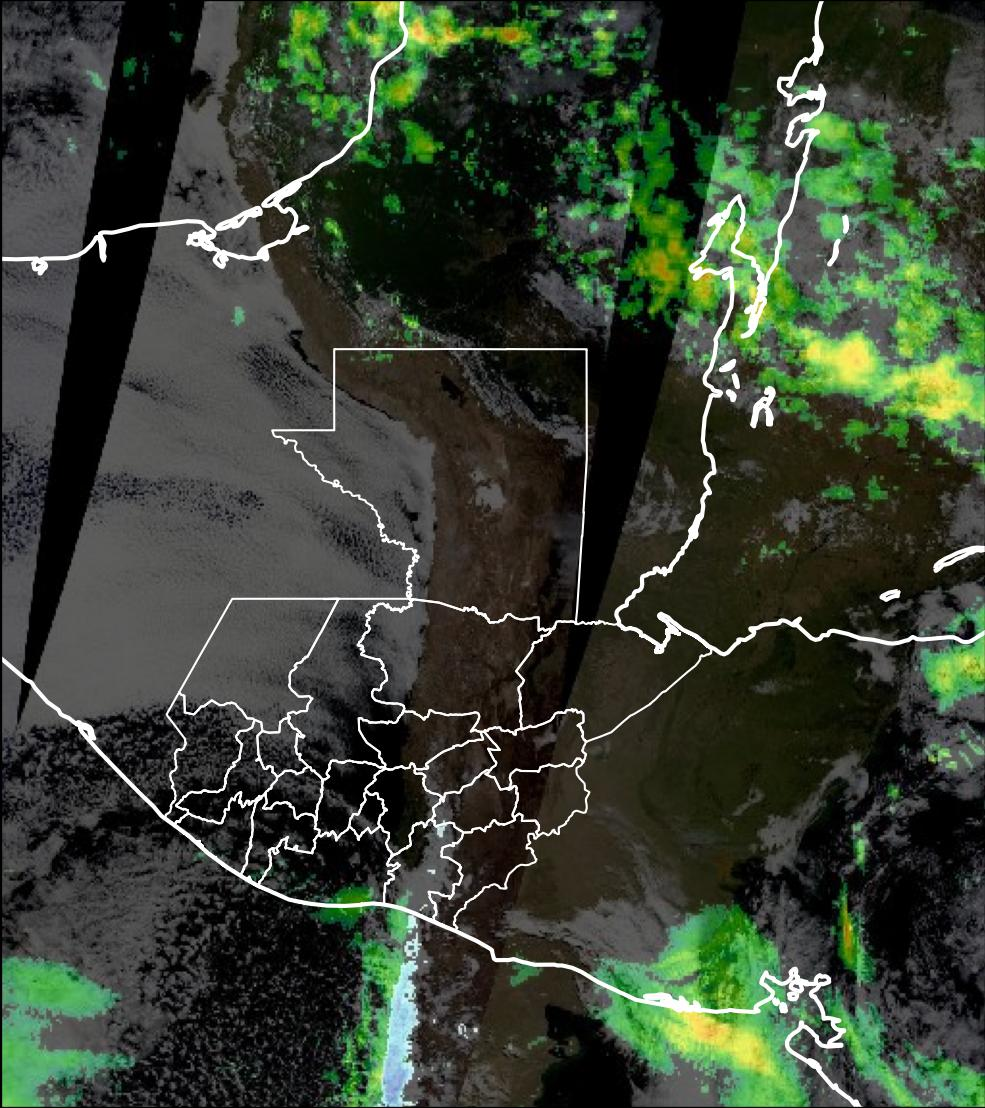precipitacion: (797, 320, 977, 441), (662, 992, 784, 1086)
